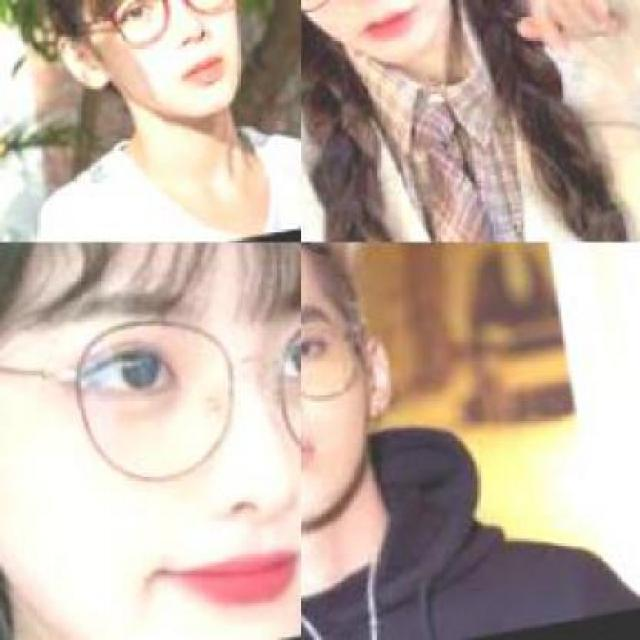mask: (0, 317, 293, 484), (300, 312, 380, 442), (61, 0, 248, 47)
